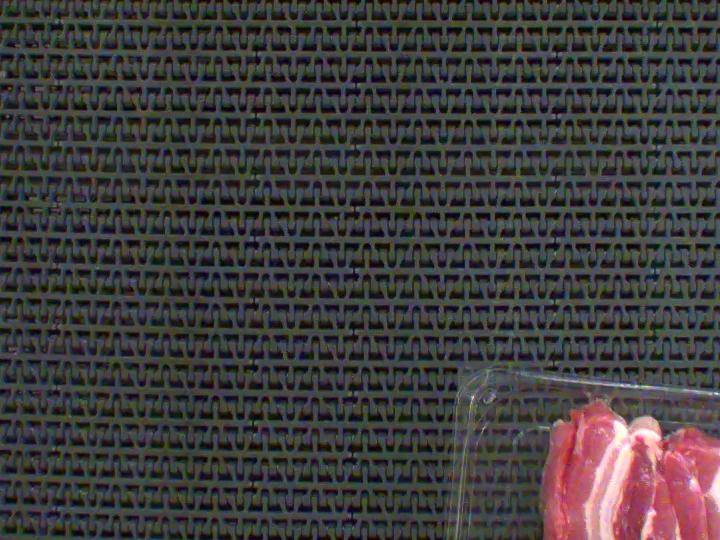packaging-error: (580, 381, 616, 408)
